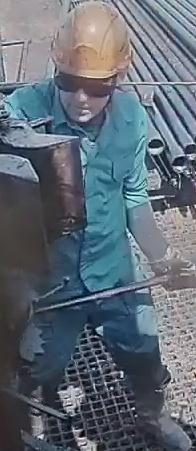gloves: (1, 280, 47, 334), (149, 249, 195, 291)
goggles: (52, 65, 118, 98)
helmet: (50, 0, 133, 79)
vest: (9, 81, 157, 311)
